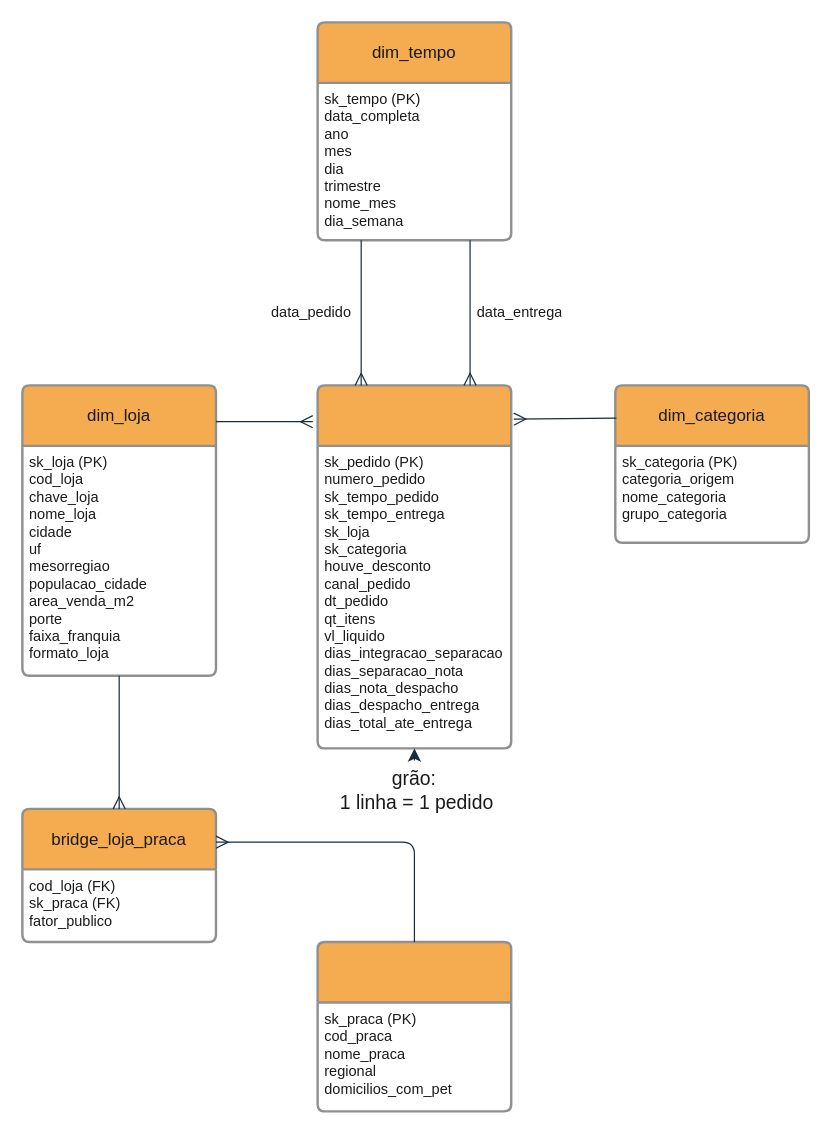
Image size: 830x1133. Some labels were removed from this diagram. The shapes that lost their labels are listed below. From the top down, each one's box as (x1, y1, x2, y2) in pixels, then its label:
(316, 384, 512, 749): fato_pedido
(316, 940, 512, 1112): dim_praca
